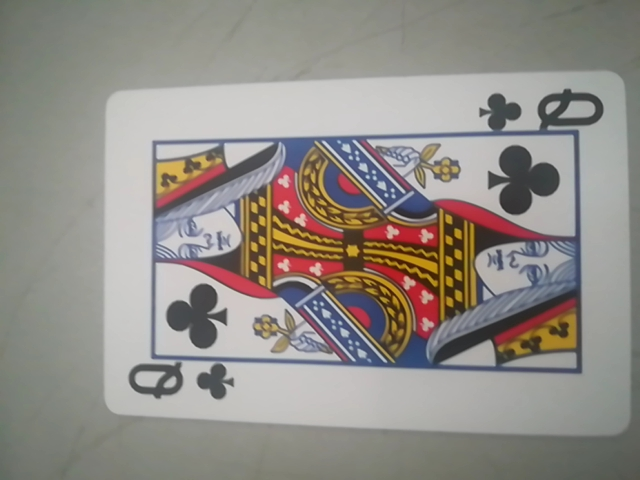mh q: (102, 69, 640, 440)
